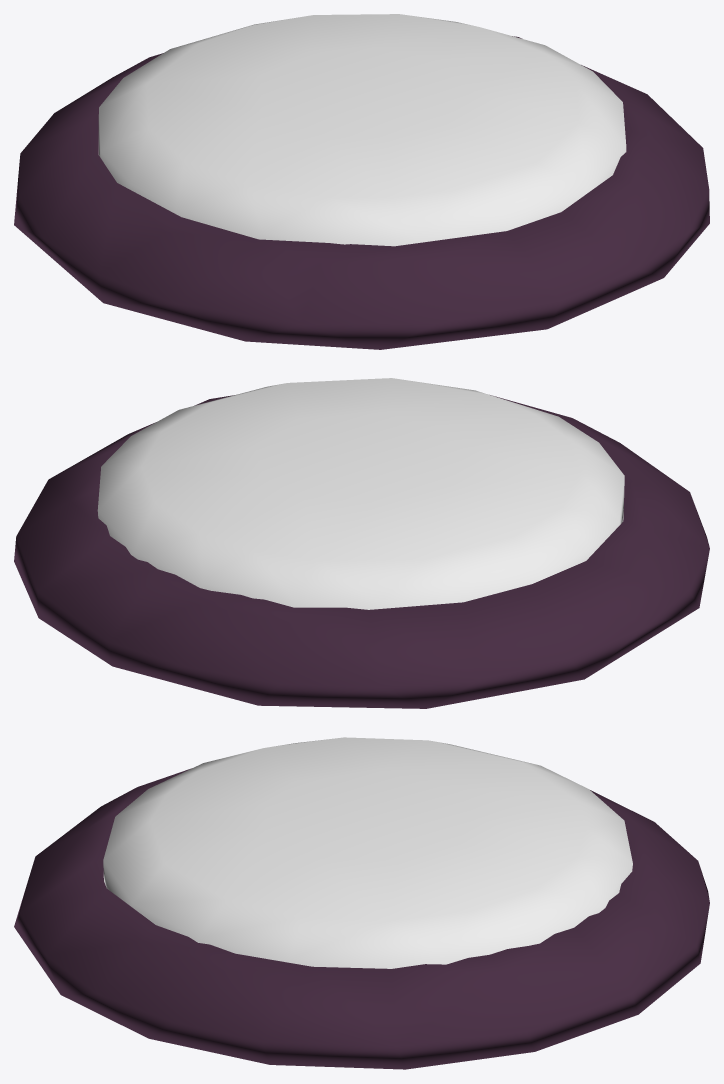
The model's file is Button.fbx.
3 views of the same model, one above another, from view 1: azimuth 30°, elevation 25°; view 2: azimuth 150°, elevation 25°; view 3: azimuth 270°, elevation 25° (orthographic).
Parts seen in each view (by area): view 1: Cylinder.008, Cylinder.007; view 2: Cylinder.008, Cylinder.007; view 3: Cylinder.008, Cylinder.007.
Part boxes in pixels (box(x1,y1,x2,y2)): Cylinder.008: box(98, 14, 626, 246); Cylinder.007: box(14, 36, 709, 349); Cylinder.008: box(97, 378, 624, 609); Cylinder.007: box(14, 395, 709, 708); Cylinder.008: box(103, 737, 632, 968); Cylinder.007: box(14, 768, 709, 1069).
Size of the model in its own units: 34.46 by 5.88 by 34.74.
